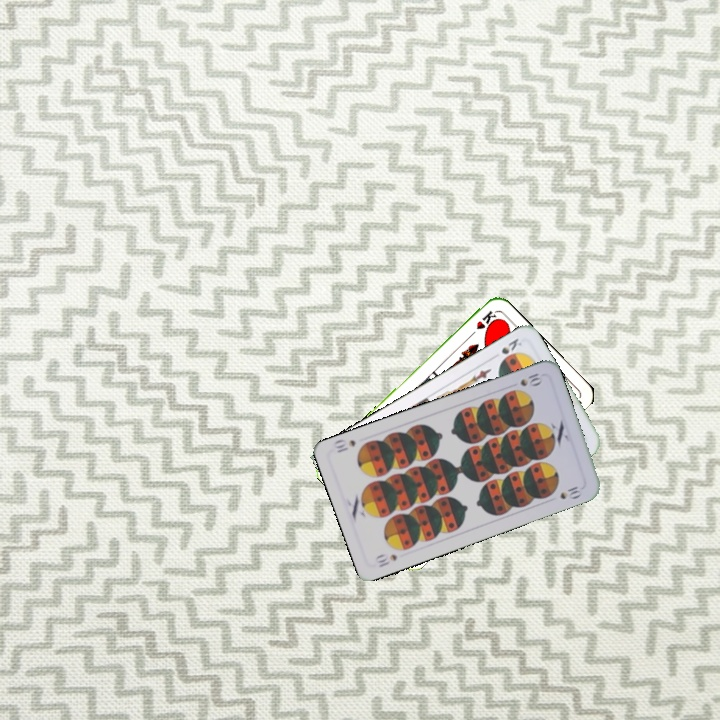HK: (464, 306, 499, 340)
S10: (371, 549, 400, 570), (516, 369, 546, 389)
SK: (497, 334, 524, 357)
